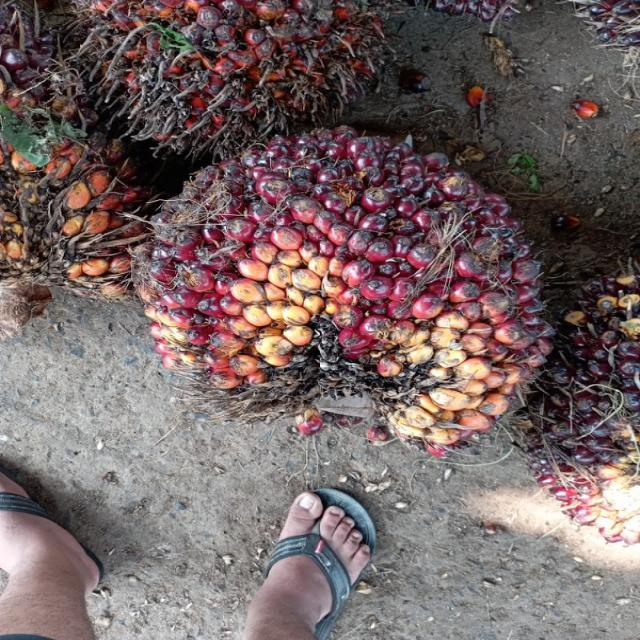fraksi 3: (136, 126, 553, 440)
fraksi 4: (74, 0, 400, 153)
